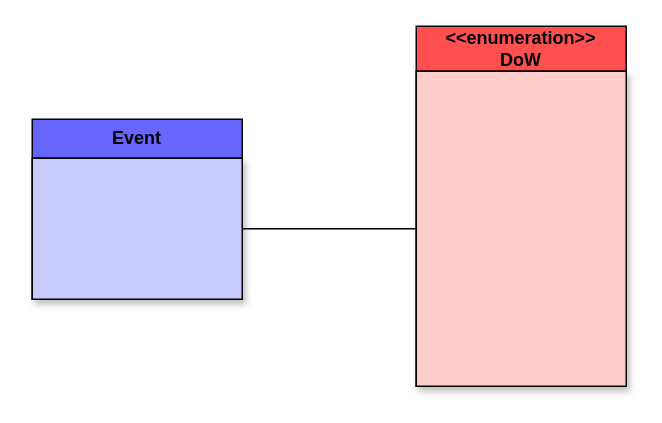
This 662x423 diagram has some shape labels left out. The shapes that lost their labels are listed below. From the top down, each one's centre as x and y in pixels, then its label:
(138,230): - name: String - time: Time - day: Dow
(522,230): Monday Tuesday Wednesday Thursday Friday Saturday Sunday.
